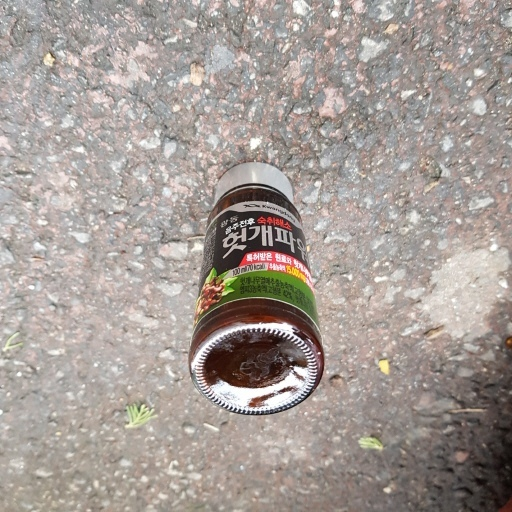Glass_3: (188, 161, 326, 418)
